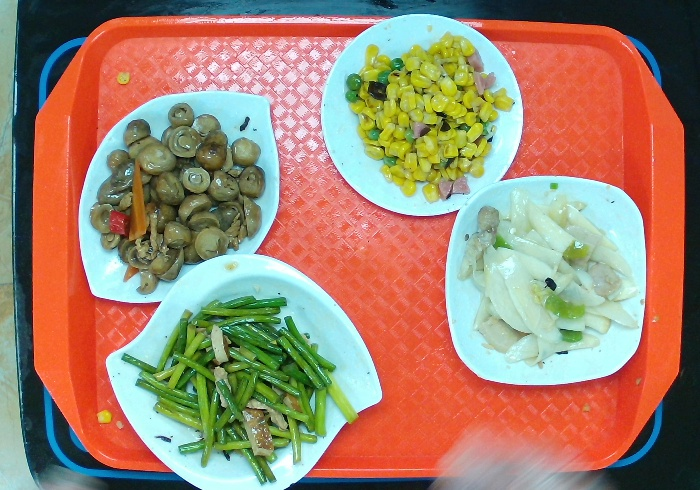RJxy-Da_Du_Pan: (76, 85, 281, 312)
RJxy-Shuang_Jiao_Pan: (105, 243, 388, 489)
RJxy-Si_Fang_Wan: (440, 168, 650, 389)
RJxy-Xiao_Yuan_Die: (314, 10, 524, 223)
